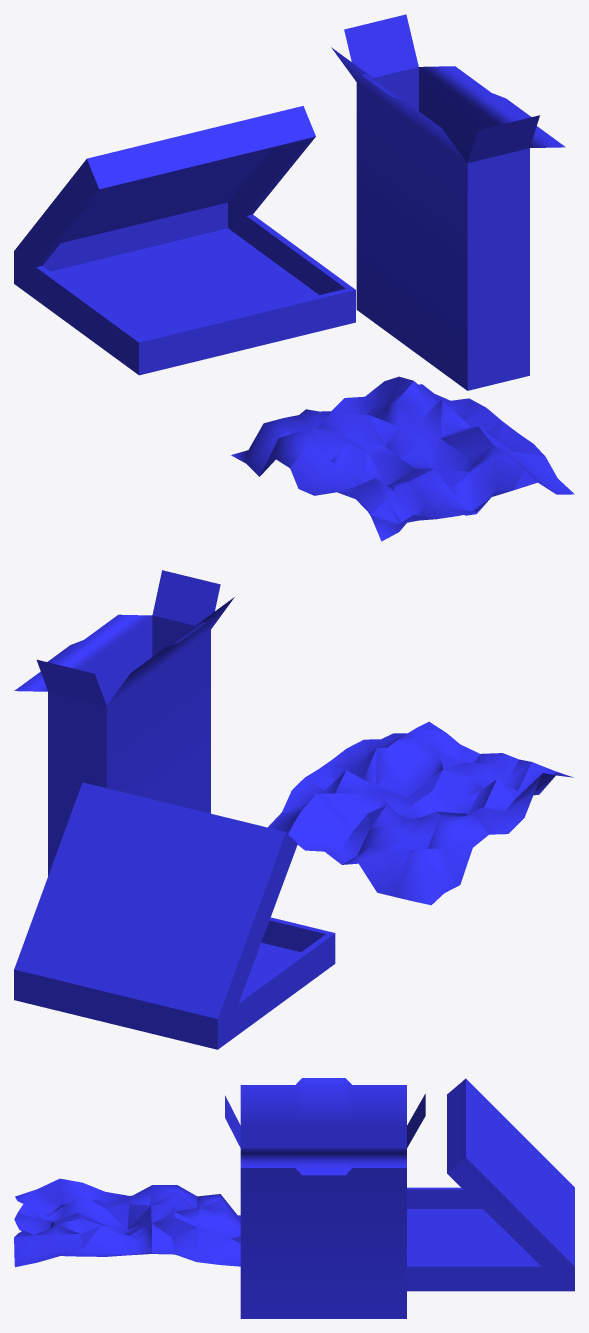
File: Garbage01.fbx
3 views of the same model, one above another, from view 1: azimuth 30°, elevation 25°; view 2: azimuth 150°, elevation 25°; view 3: azimuth 270°, elevation 25° (orthographic). The views are drawn at different scales.
Visible parts, largest first — view 1: polySurface21, polySurface16, polySurface24; view 2: polySurface21, polySurface16, polySurface24; view 3: polySurface16, polySurface21, polySurface24.
Part boxes in pixels (<box>): polySurface21: <box>14,106,355,375</box>; polySurface16: <box>331,14,565,390</box>; polySurface24: <box>231,376,574,541</box>; polySurface21: <box>14,782,335,1049</box>; polySurface16: <box>14,570,234,875</box>; polySurface24: <box>268,721,573,905</box>; polySurface16: <box>225,1078,425,1318</box>; polySurface21: <box>407,1078,574,1291</box>; polySurface24: <box>14,1178,240,1267</box>.
Bounding box in the file's own units: 5.23 × 3.99 × 9.62.
